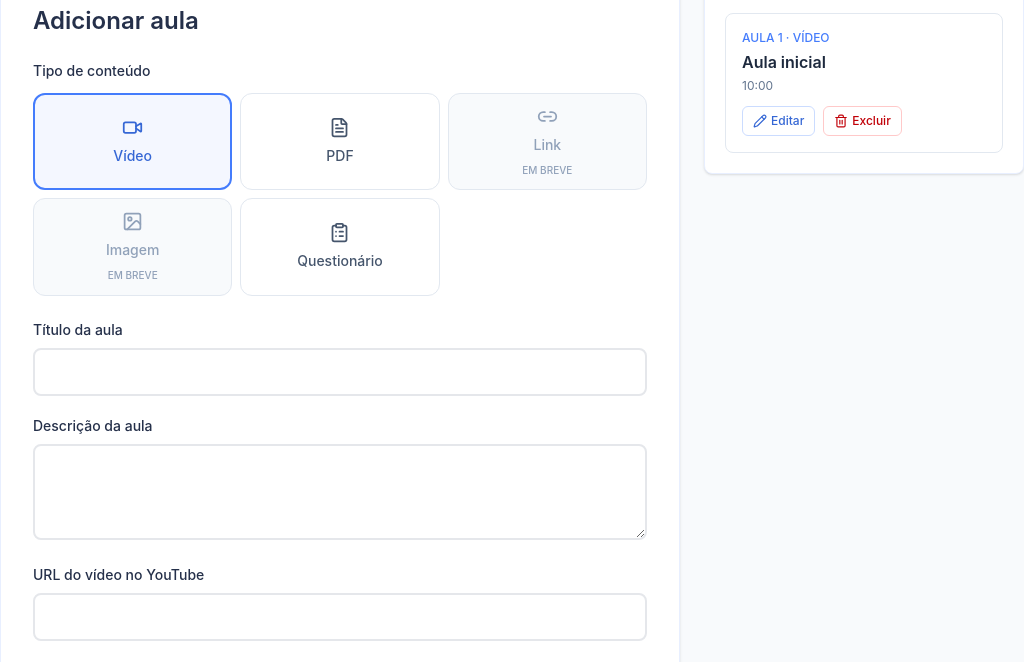
Test: CourseLessonsEditor › edits and deletes an existing lesson
Click the button "Editar": (779, 121) top-left (742, 106), bottom-right (815, 136)
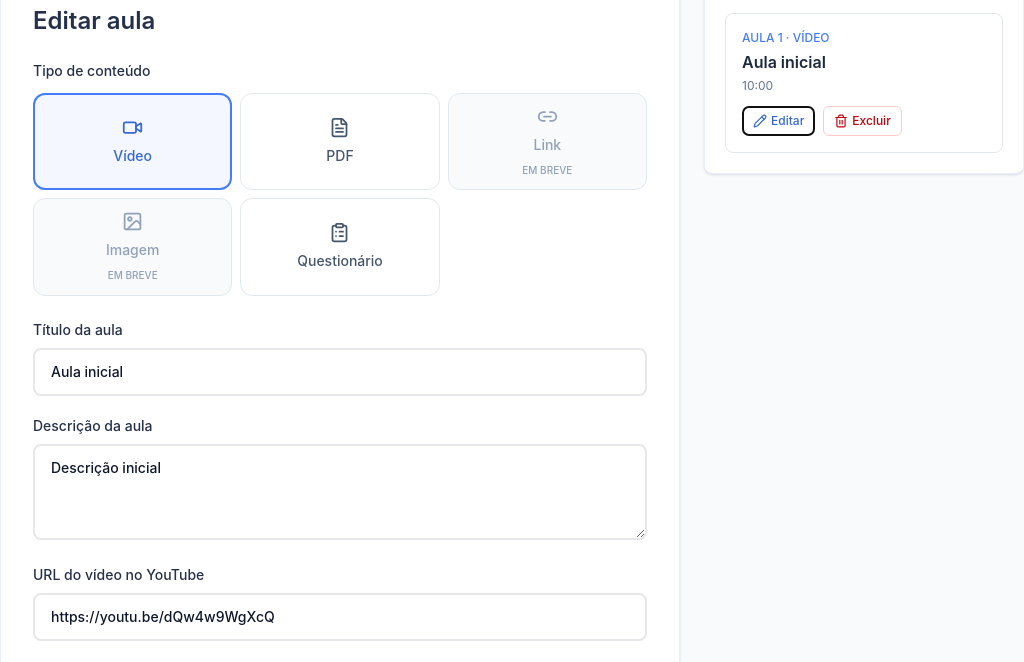
Replace the text in the field labelled "Título da aula" with "Aula atualizada": (340, 372) top-left (33, 348), bottom-right (647, 396)
(page scrolled)
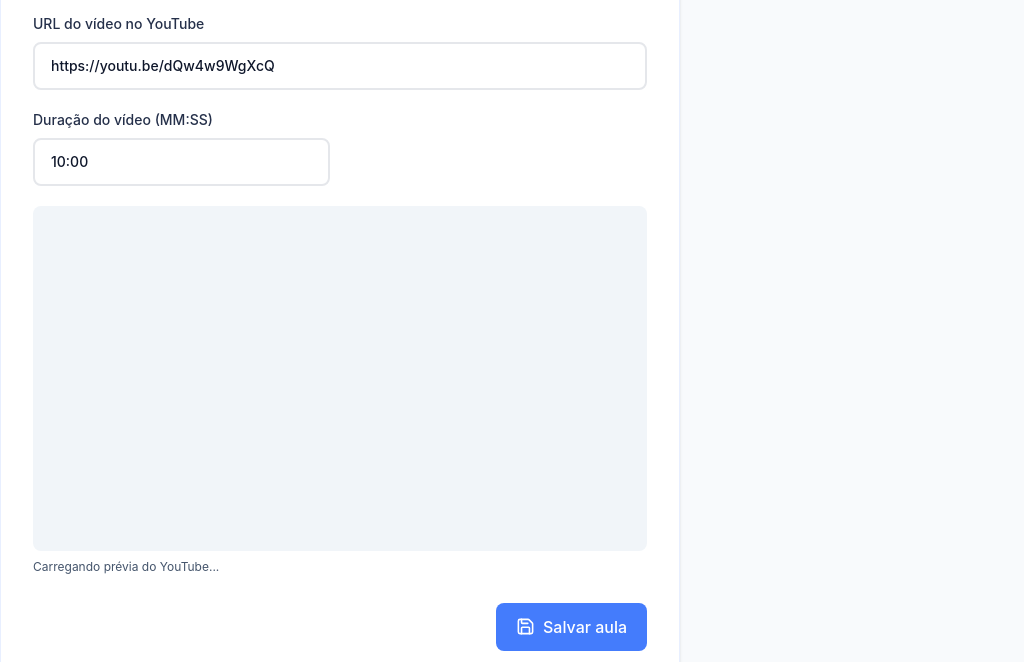
Click the button "Salvar aula": (572, 627) top-left (496, 603), bottom-right (647, 651)
(page scrolled)
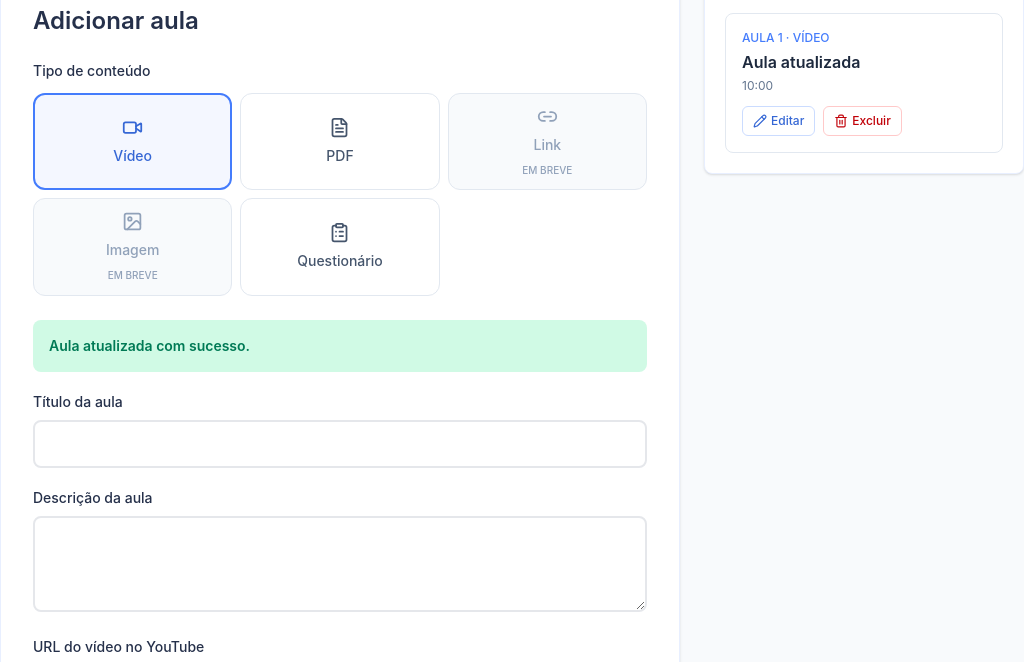
Click the button "Excluir": (863, 121) top-left (823, 106), bottom-right (902, 136)
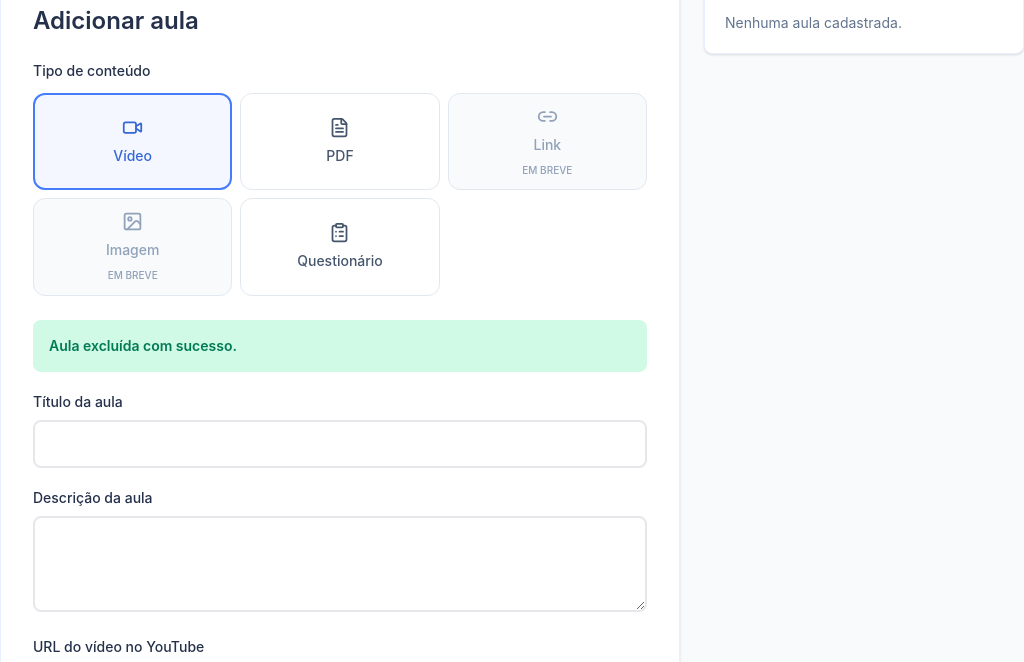
expect the text "Aula excluída com sucesso." is shown: met, box top-left (33, 320), bottom-right (647, 372)
